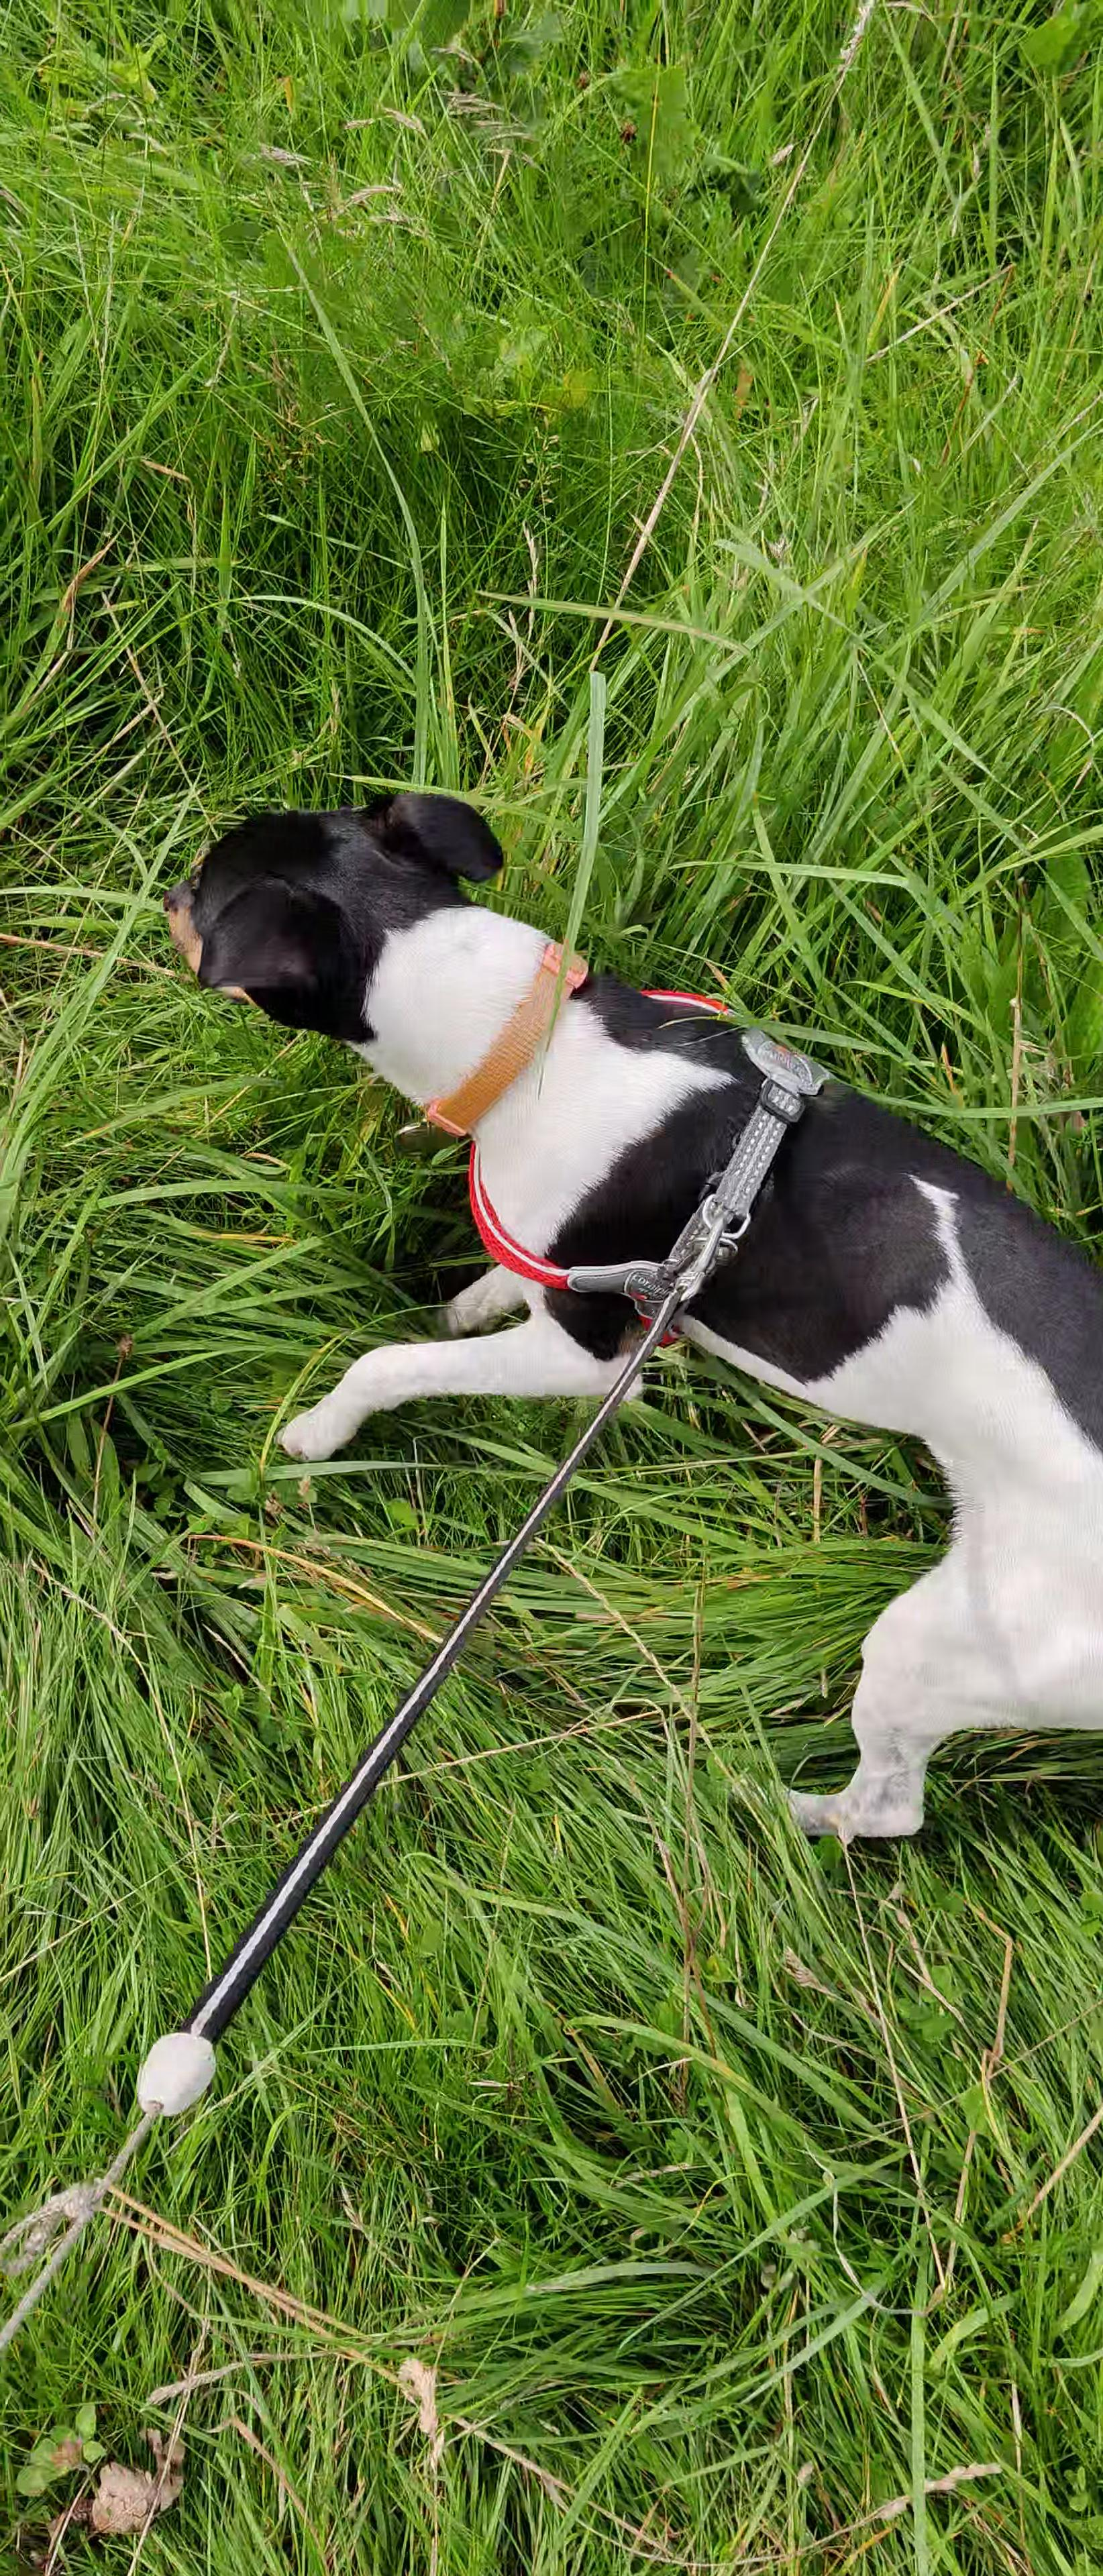Dog: (118, 767, 1103, 1866)
